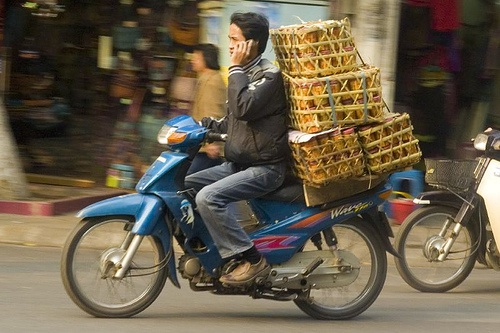non-vehicle: (59, 111, 403, 318), (392, 125, 500, 292)
